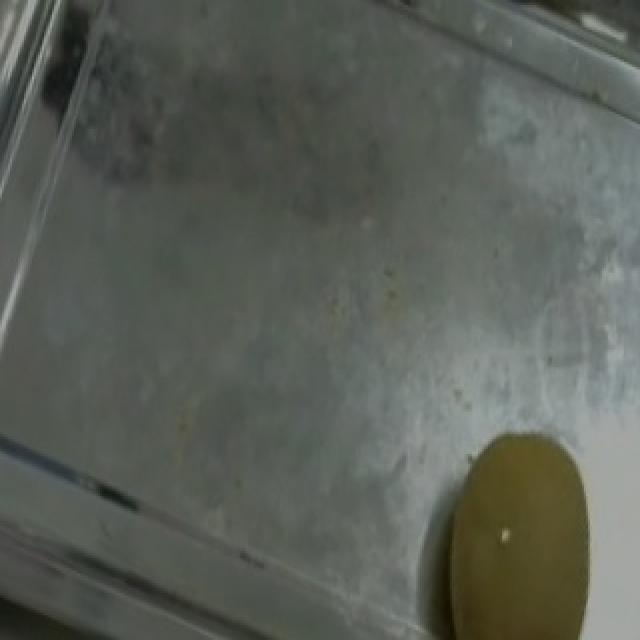Fruit: (410, 414, 634, 640)
